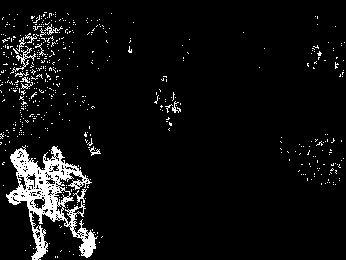person: (44, 145, 97, 257), (9, 147, 58, 258)
